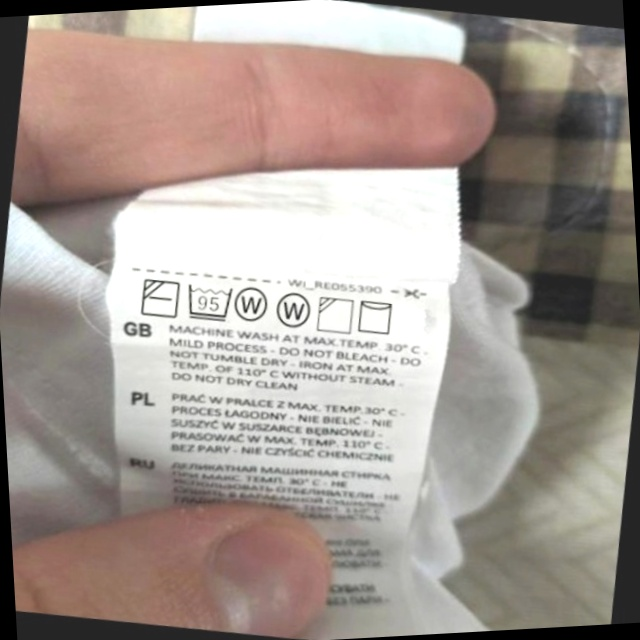95C: (181, 278, 237, 326)
dry_flat_in_shade: (136, 273, 184, 323)
line_dry: (353, 293, 400, 340)
shade_dry: (312, 291, 359, 339)
wet_clean: (231, 279, 275, 327), (272, 287, 316, 334)
